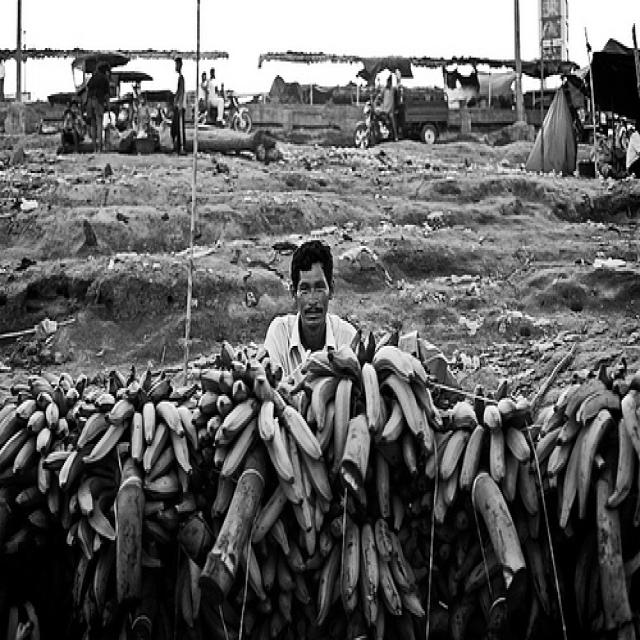motor: (352, 99, 400, 149), (197, 93, 253, 135)
